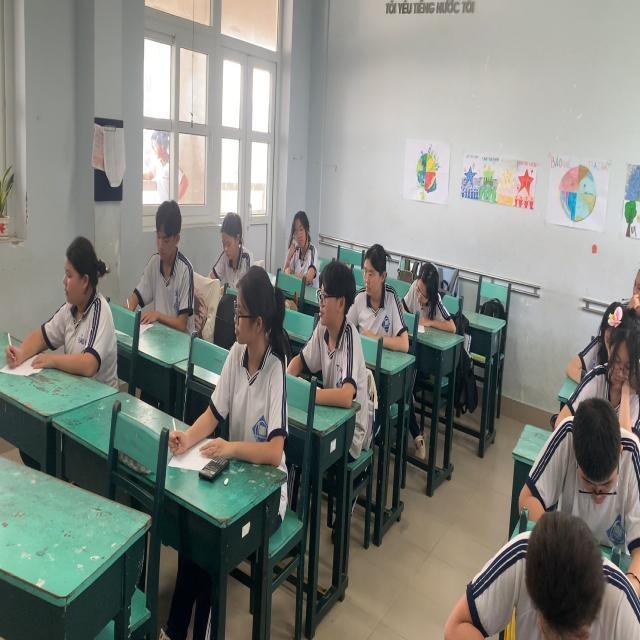cheating: (218, 258, 292, 454), (307, 247, 365, 344), (354, 244, 396, 312)
not_cheating: (562, 392, 632, 517), (143, 195, 196, 305), (589, 295, 638, 399), (62, 236, 105, 333), (406, 247, 455, 320), (212, 216, 252, 264), (287, 205, 313, 257)
